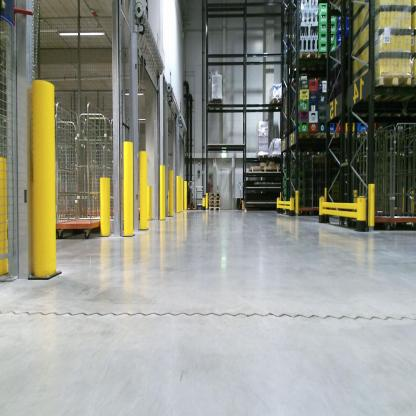pallet: (357, 76, 410, 107), (289, 49, 319, 74), (316, 46, 336, 69), (268, 96, 285, 115), (354, 132, 378, 142), (207, 97, 222, 112), (299, 130, 318, 139), (333, 132, 352, 141), (270, 150, 284, 161), (317, 131, 335, 139), (257, 150, 268, 163), (208, 192, 221, 197), (208, 207, 222, 211), (208, 196, 221, 200), (209, 200, 220, 204), (209, 204, 220, 207)
pallet_truck: (235, 179, 249, 214), (185, 178, 197, 213)
